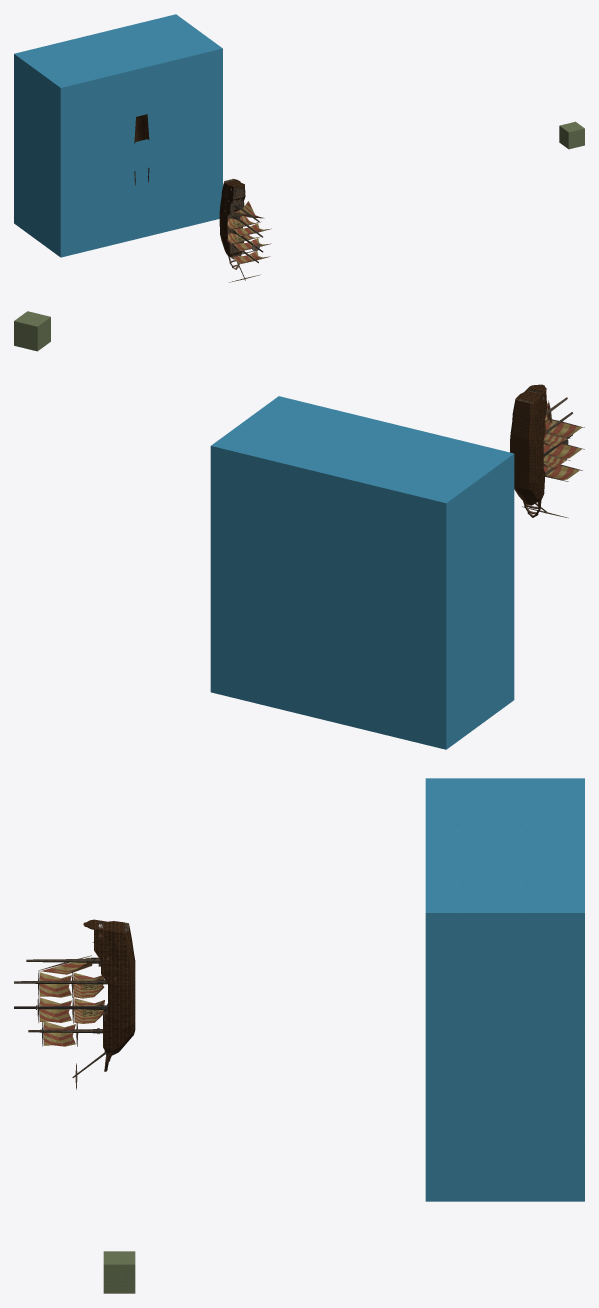
File: DM-KSchooner.obj
3 renders of one model, top to bottom at view 1: azimuth 30°, elevation 25°; view 2: azimuth 150°, elevation 25°; view 3: azimuth 270°, elevation 25°, orthographic. The views are drawn at different scales.
Parts seen in each view (by area): view 1: ShaneDay_DayskyB, UT_Woodf2, Indus6_Woods_DeckRf1, Indus6_Woods_Sail1, genfluid_Water_r5000w, Indus6_Woods_Sail1a; view 2: ShaneDay_DayskyB, UT_Woodf2, genfluid_Water_r5000w, Indus6_Woods_Sail1; view 3: ShaneDay_DayskyB, UT_Woodf2, Indus6_Woods_Sail1, genfluid_Water_r5000w, Indus5_Galleon_RufWod1a, Indus6_Woods_Sail1a.
Boxes of the visible parts, x1=… form: ShaneDay_DayskyB: x1=14, y1=14, x2=222, y2=257; UT_Woodf2: x1=134, y1=114, x2=244, y2=267; Indus6_Woods_DeckRf1: x1=224, y1=178, x2=271, y2=282; Indus6_Woods_Sail1: x1=233, y1=201, x2=268, y2=263; genfluid_Water_r5000w: x1=559, y1=121, x2=584, y2=149; Indus6_Woods_Sail1a: x1=227, y1=215, x2=257, y2=243; ShaneDay_DayskyB: x1=210, y1=396, x2=514, y2=749; UT_Woodf2: x1=510, y1=384, x2=547, y2=517; genfluid_Water_r5000w: x1=14, y1=311, x2=50, y2=351; Indus6_Woods_Sail1: x1=543, y1=402, x2=581, y2=479; ShaneDay_DayskyB: x1=425, y1=778, x2=584, y2=1201; UT_Woodf2: x1=83, y1=919, x2=135, y2=1071; Indus6_Woods_Sail1: x1=40, y1=957, x2=92, y2=1046; genfluid_Water_r5000w: x1=103, y1=1251, x2=135, y2=1293; Indus5_Galleon_RufWod1a: x1=14, y1=959, x2=107, y2=1077; Indus6_Woods_Sail1a: x1=73, y1=973, x2=104, y2=1023.
Bounding box in the file's own units: 517 × 195 × 350.
